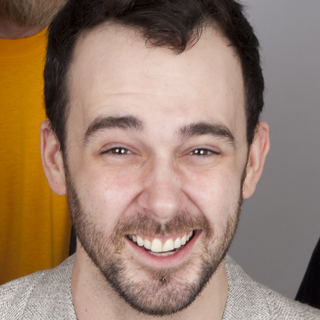eye: (174, 143, 224, 162), (96, 141, 140, 161)
